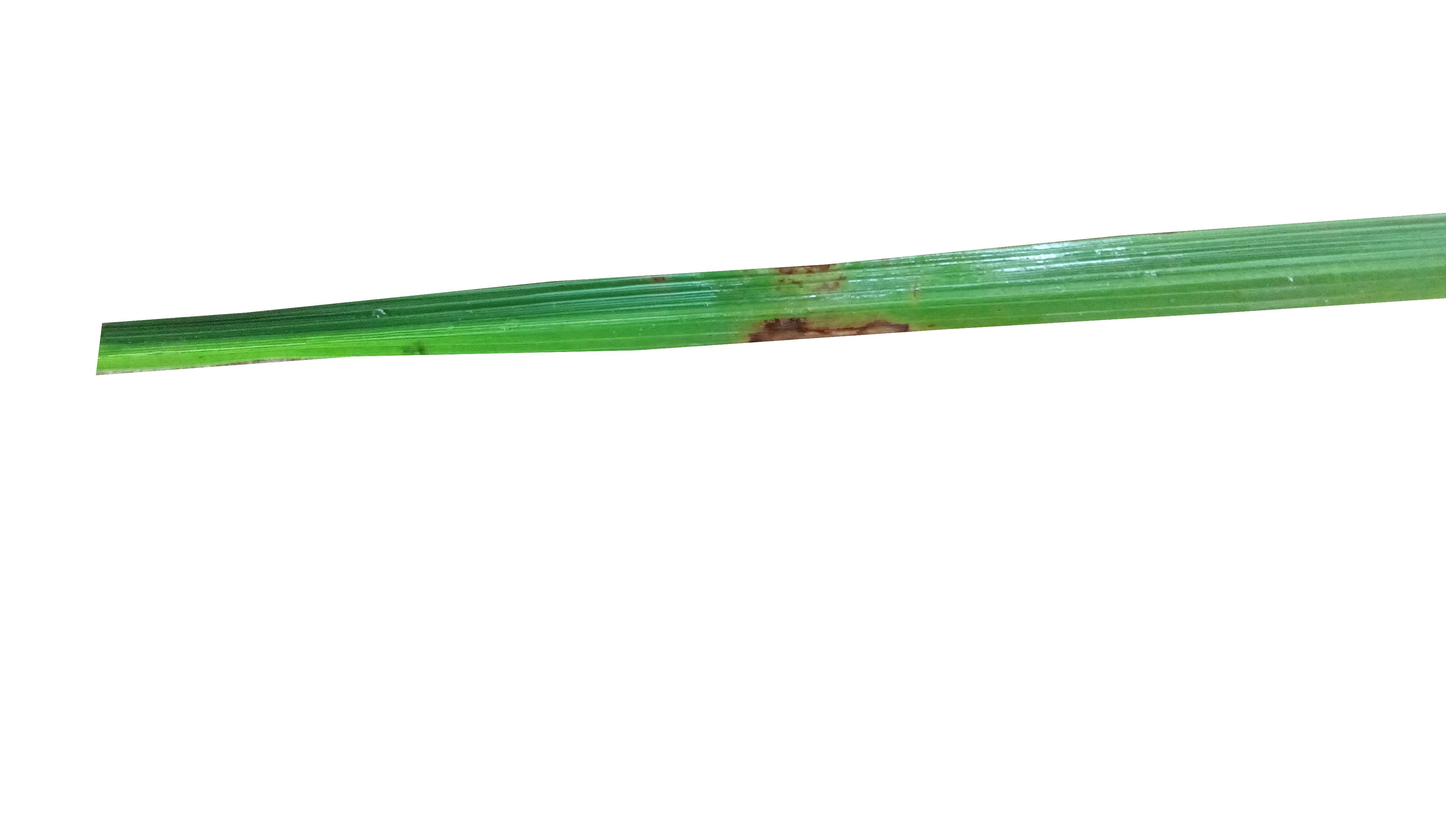Rice blast: (735, 299, 940, 343), (767, 261, 868, 293)
